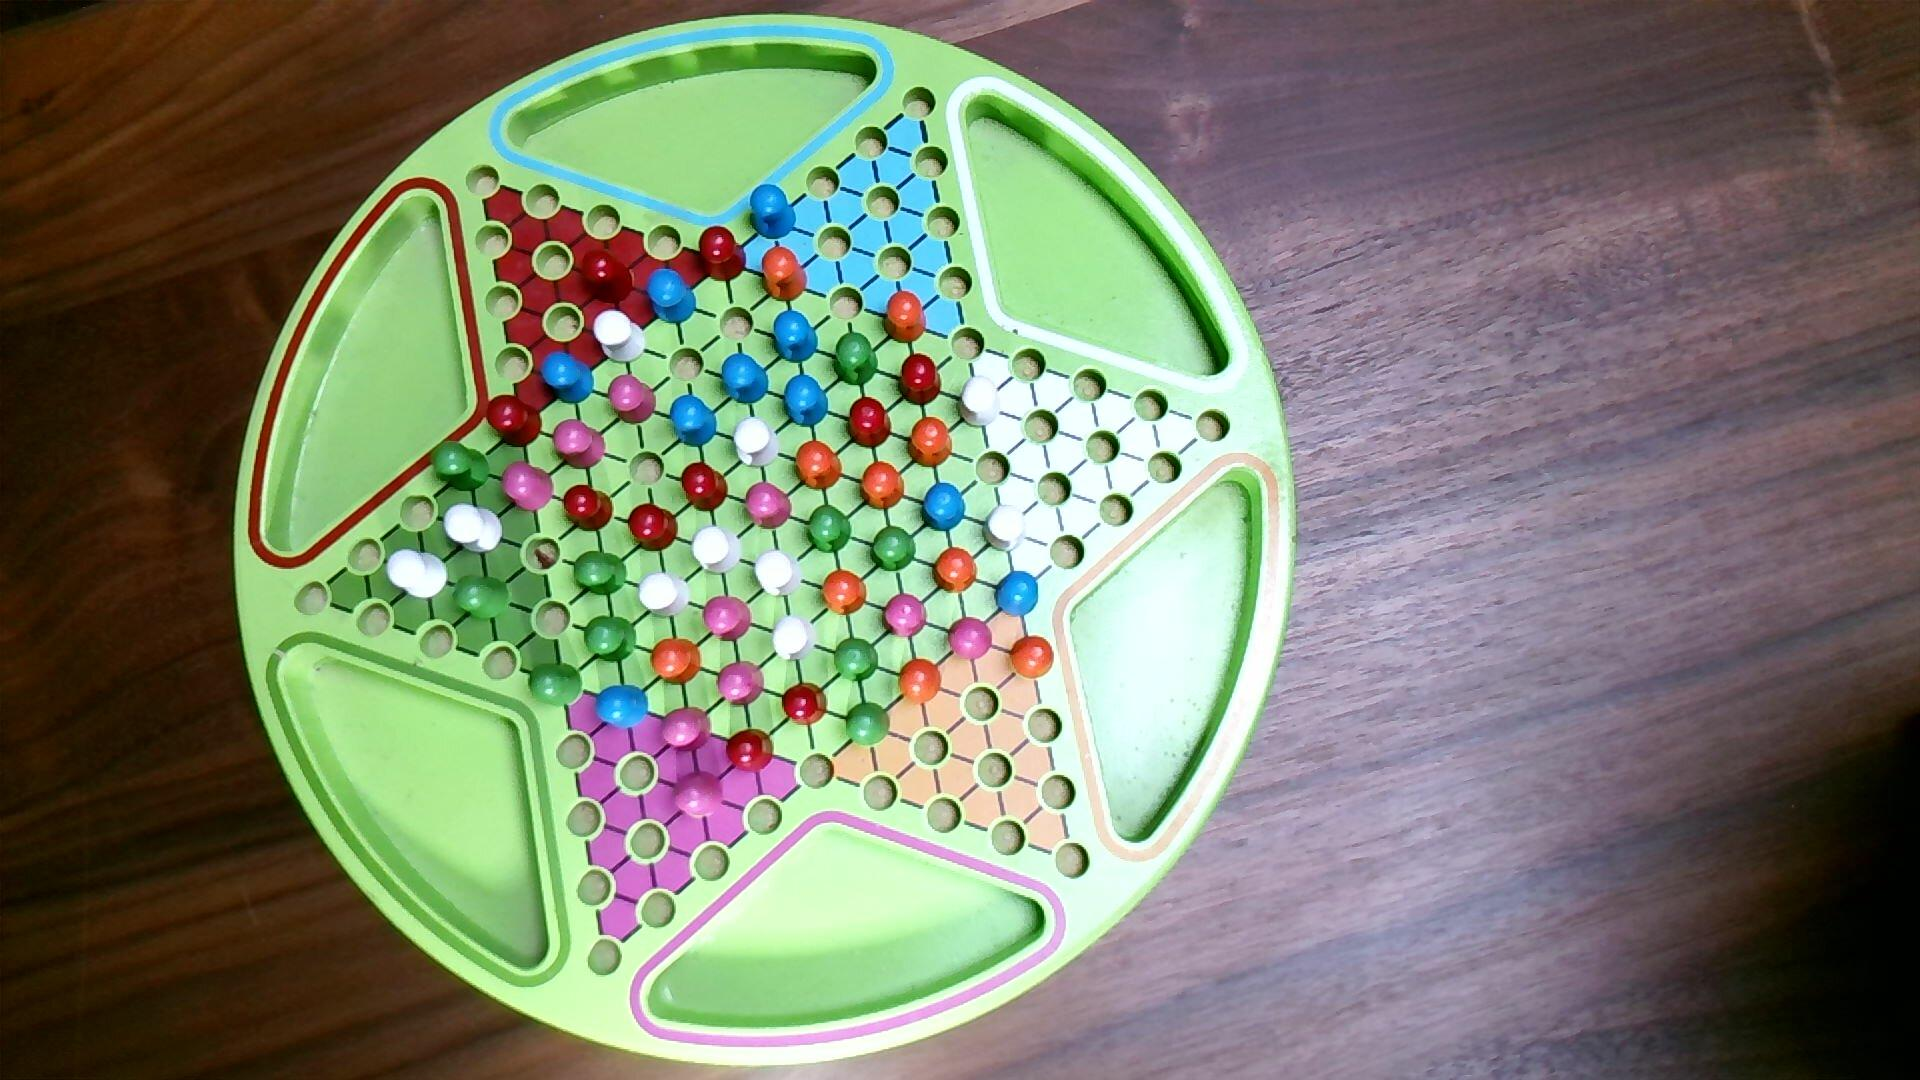B: (539, 349, 596, 406), (647, 266, 699, 326), (771, 309, 822, 367), (720, 351, 771, 406), (749, 183, 798, 241), (781, 375, 831, 430), (669, 393, 719, 448), (593, 683, 651, 731), (919, 481, 968, 534), (993, 568, 1040, 620)
G: (429, 440, 493, 495), (452, 574, 514, 621), (583, 615, 638, 665), (574, 550, 630, 597), (832, 331, 880, 388), (527, 662, 585, 708), (804, 502, 855, 555), (869, 524, 918, 574), (832, 636, 881, 684), (844, 702, 891, 749)
O: (649, 637, 705, 688), (760, 245, 808, 303), (906, 415, 955, 469), (794, 440, 844, 492), (882, 290, 928, 345), (895, 657, 945, 707), (858, 460, 907, 512), (820, 568, 869, 617), (1009, 634, 1058, 683), (931, 546, 978, 596)
R: (579, 248, 636, 306), (487, 394, 545, 450), (698, 225, 749, 284), (626, 502, 680, 554), (562, 484, 615, 534), (680, 462, 731, 514), (847, 396, 894, 451), (895, 352, 943, 407), (781, 680, 831, 728), (727, 729, 775, 775)
R2: (500, 460, 556, 514), (551, 418, 608, 472), (673, 770, 725, 822), (607, 375, 658, 426), (716, 659, 767, 709), (744, 480, 794, 531), (661, 705, 713, 754), (702, 595, 754, 644), (881, 592, 930, 640), (947, 616, 994, 663)
W: (385, 549, 451, 601), (592, 309, 647, 367), (443, 502, 504, 555), (691, 525, 744, 576), (956, 375, 1002, 431), (753, 549, 803, 599), (735, 415, 781, 469), (638, 572, 691, 618), (771, 615, 818, 665), (982, 504, 1027, 555)
